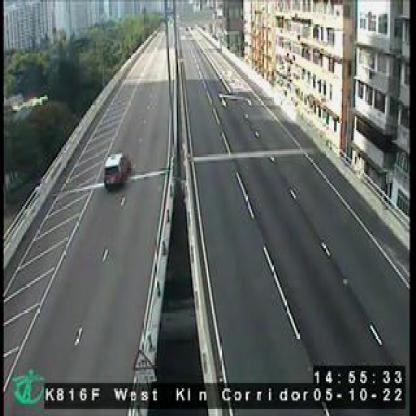Car: (104, 151, 126, 189)
